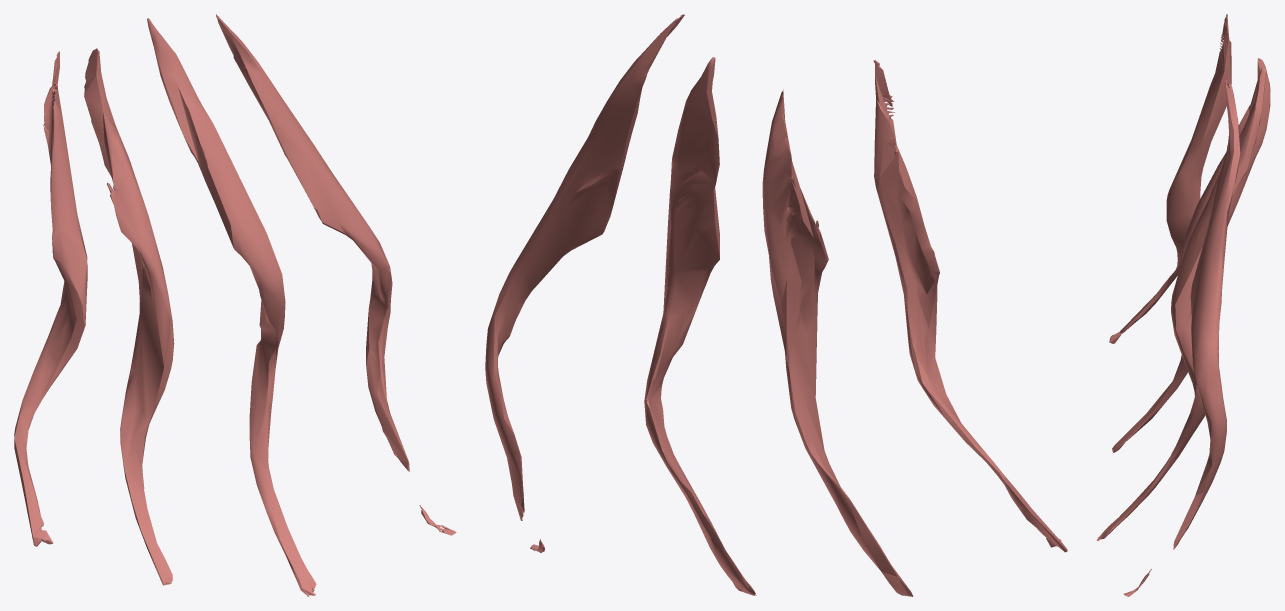
Rendered from fma42399_fj1510m.glb.
3 renders of one model, left to right at view 1: azimuth 30°, elevation 25°; view 2: azimuth 150°, elevation 25°; view 3: azimuth 270°, elevation 25°, orthographic. The views are drawn at different scales.
Parts seen in each view (by area): view 1: FMA42399_FJ1510M; view 2: FMA42399_FJ1510M; view 3: FMA42399_FJ1510M.
Boxes of the visible parts, x1,y1,x2,y2 form: FMA42399_FJ1510M: (14, 14, 456, 596); FMA42399_FJ1510M: (485, 14, 1067, 596); FMA42399_FJ1510M: (1096, 14, 1270, 596).
Size of the model in its own units: 0.0759 by 0.09 by 0.0314.
